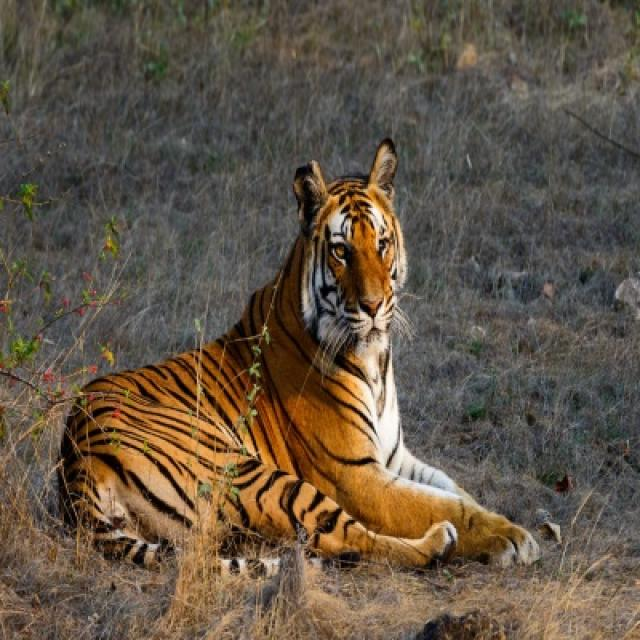Tiger: (58, 138, 538, 565)
